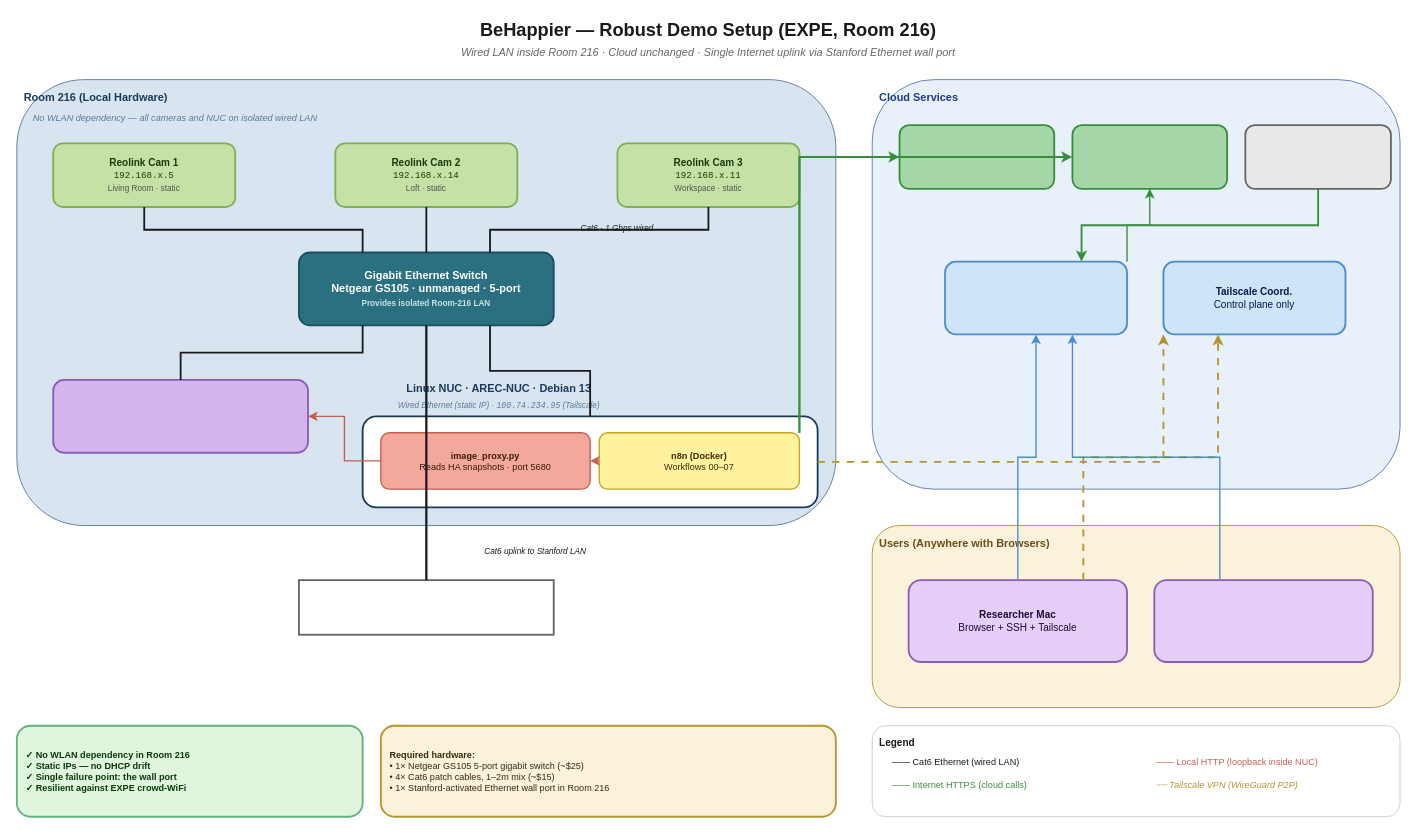
This 1416x833 diagram has some shape labels left out. Here are the shapes that lost their labels. From the top down, the centre of each, then its label:
At pixel 976 156: "OpenAI API gpt-4.1 vision + mini api.openai.com".
At pixel 1149 156: "Supabase Postgres + Storage us-west-1".
At pixel 1317 156: "GitHub Source + auto-deploy".
At pixel 1035 297: "Vercel Frontend hosting v0-behappier-sp.vercel.app".
At pixel 180 416: "Home Assistant VM VirtualBox · Bridged via wired adapter 192.168.x.6".
At pixel 426 607: "Stanford Ethernet Wall Port DHCP uplink · Internet".
At pixel 1263 620: "Audience / Building Manager Browser only · Vercel URL".
